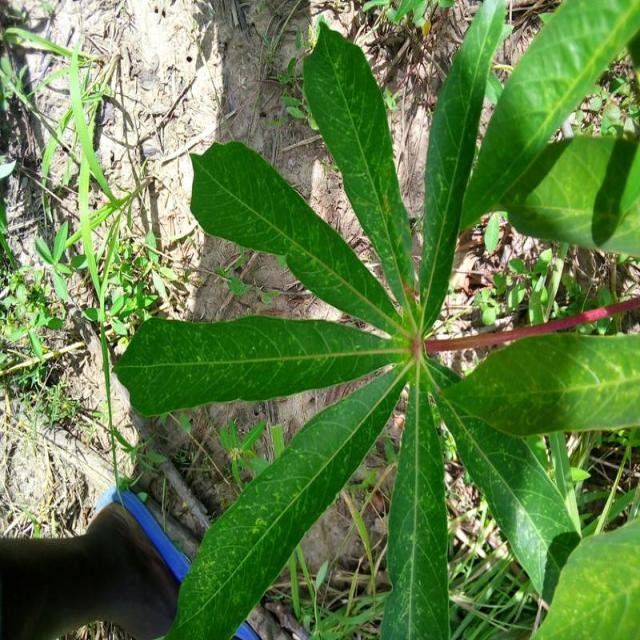cassava leaf: (113, 0, 638, 638), (162, 356, 411, 638), (188, 139, 409, 337), (457, 0, 638, 241), (431, 355, 581, 606), (301, 16, 416, 311), (418, 0, 512, 337), (112, 313, 411, 417), (437, 328, 639, 438), (380, 356, 450, 638), (506, 132, 638, 257), (528, 516, 638, 638)
